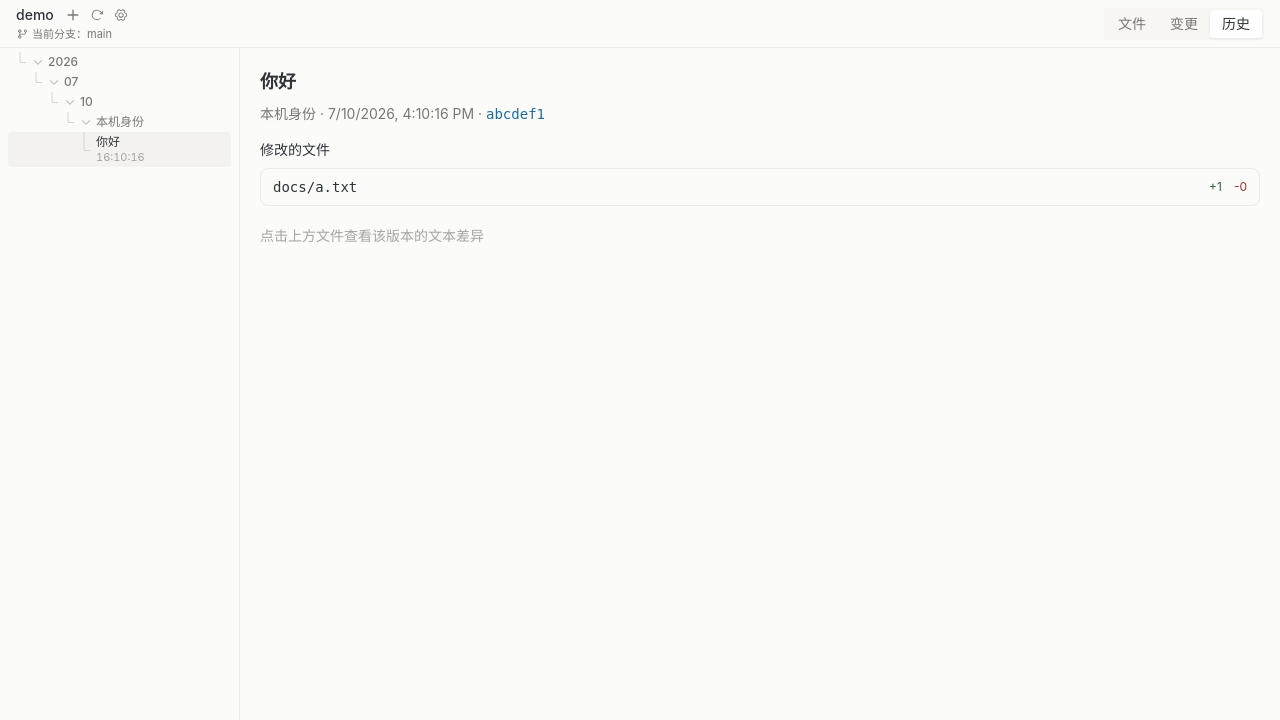
Test: ProjectPage sidebar context menus › opens history commit menu and copies sha
The image size is (1280, 720).
Right-click the text titled "你好".
right_click(108, 142)  # box top-left (96, 134), bottom-right (120, 149)
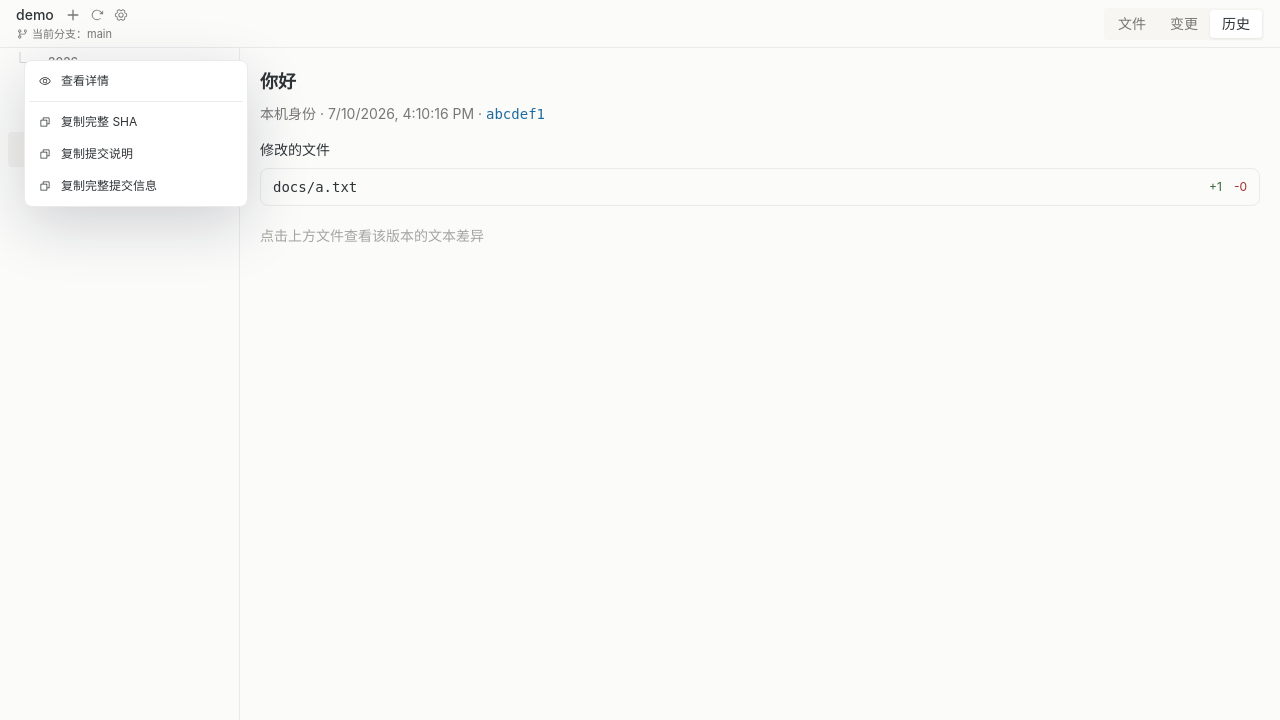
Now the menu item "查看详情" is shown, box top-left (29, 65), bottom-right (243, 97)
Now the menu item "复制完整 SHA" is shown
Now the menu item "复制完整提交信息" is shown, box top-left (29, 170), bottom-right (243, 202)
Click the menu item "复制完整 SHA".
click(136, 122)  # box top-left (29, 106), bottom-right (243, 138)
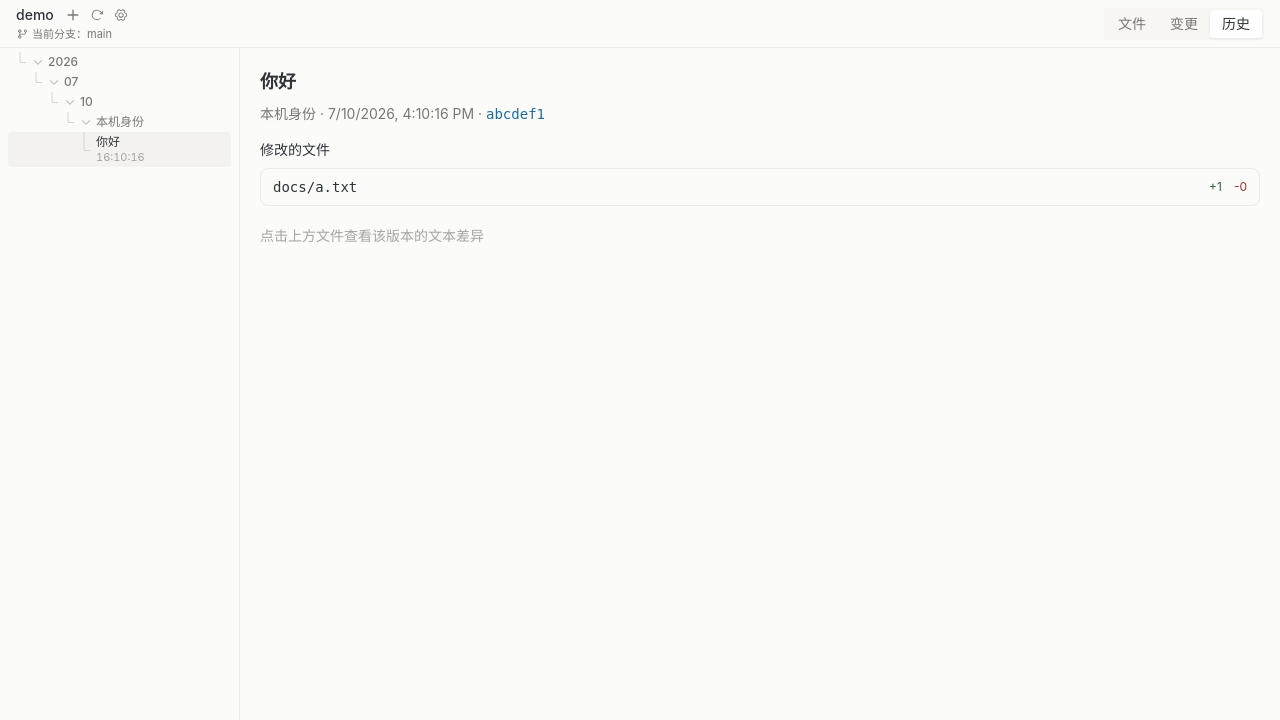
Now the menu item "复制完整 SHA" is gone
